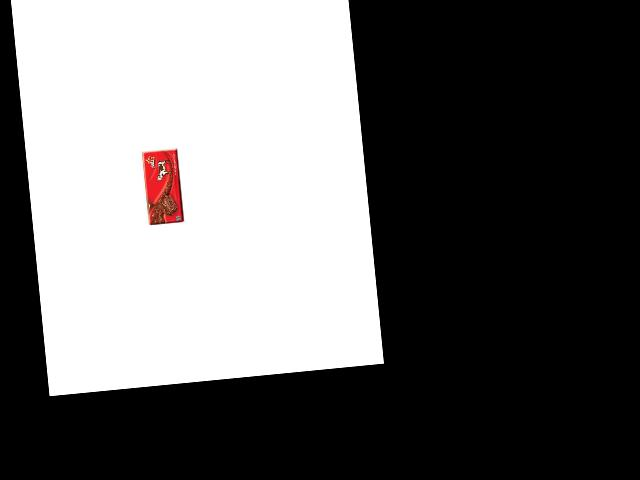chocolate: (140, 145, 188, 227)
